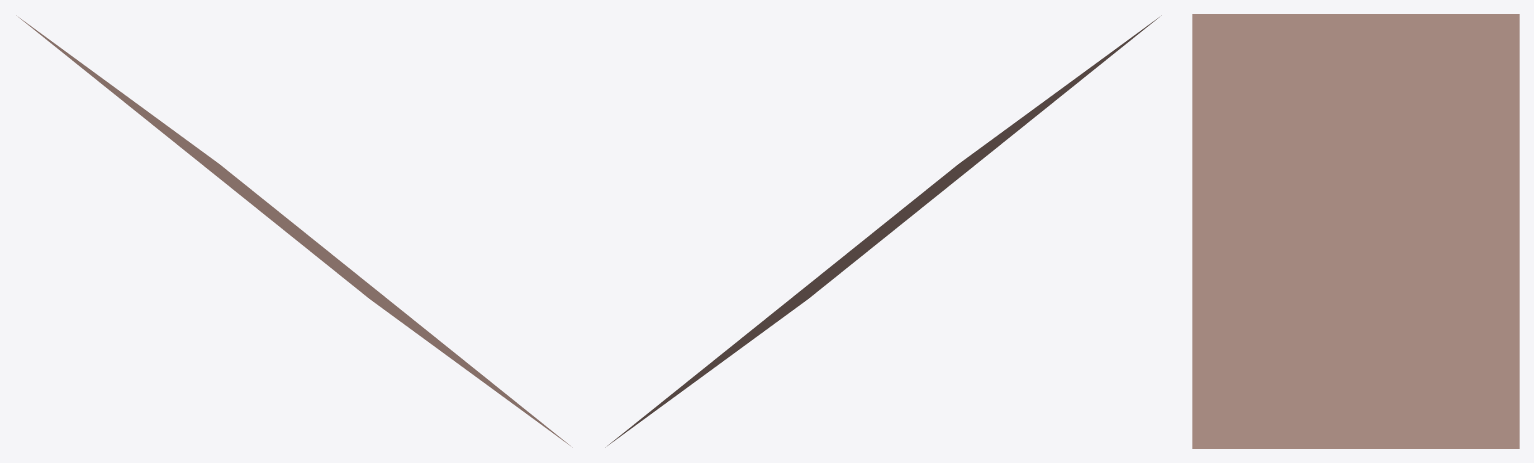
File: roof_edge_mesh.fbx
3 renders of one model, left to right at view 1: azimuth 30°, elevation 25°; view 2: azimuth 150°, elevation 25°; view 3: azimuth 270°, elevation 25°, orthographic. The views are drawn at different scales.
Parts seen in each view (by area): view 1: roof_edge_mesh; view 2: roof_edge_mesh; view 3: roof_edge_mesh.
Boxes of the visible parts, box(x1,y1,x2,y2) form: roof_edge_mesh: box(16, 15, 572, 447); roof_edge_mesh: box(605, 15, 1161, 447); roof_edge_mesh: box(1192, 14, 1519, 448).
Bounding box in the file's own units: 1 × 1 × 1.
